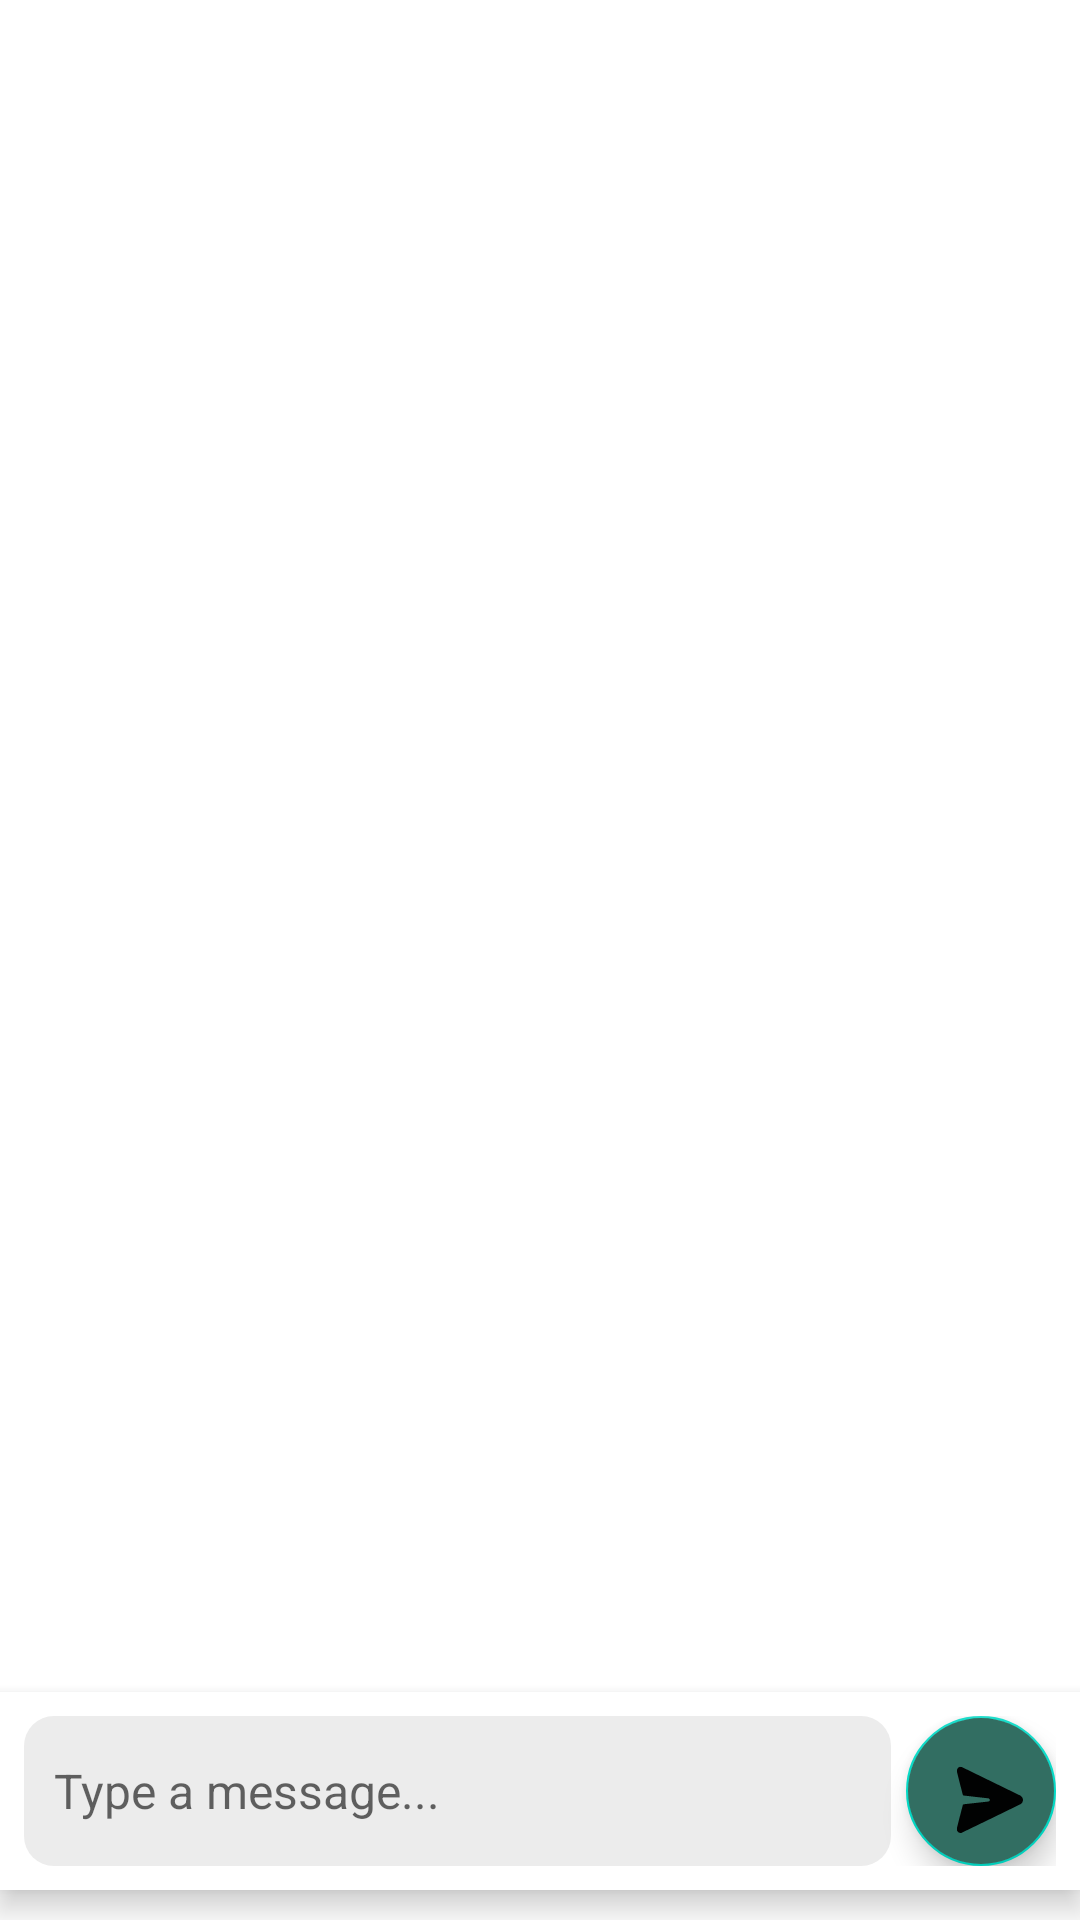

Icons on this 1080 × 1920 Android screen, each with its box as (left=x1, top=y1, right=x2, bottom=y2):
send button: (left=906, top=1716, right=1056, bottom=1866)
